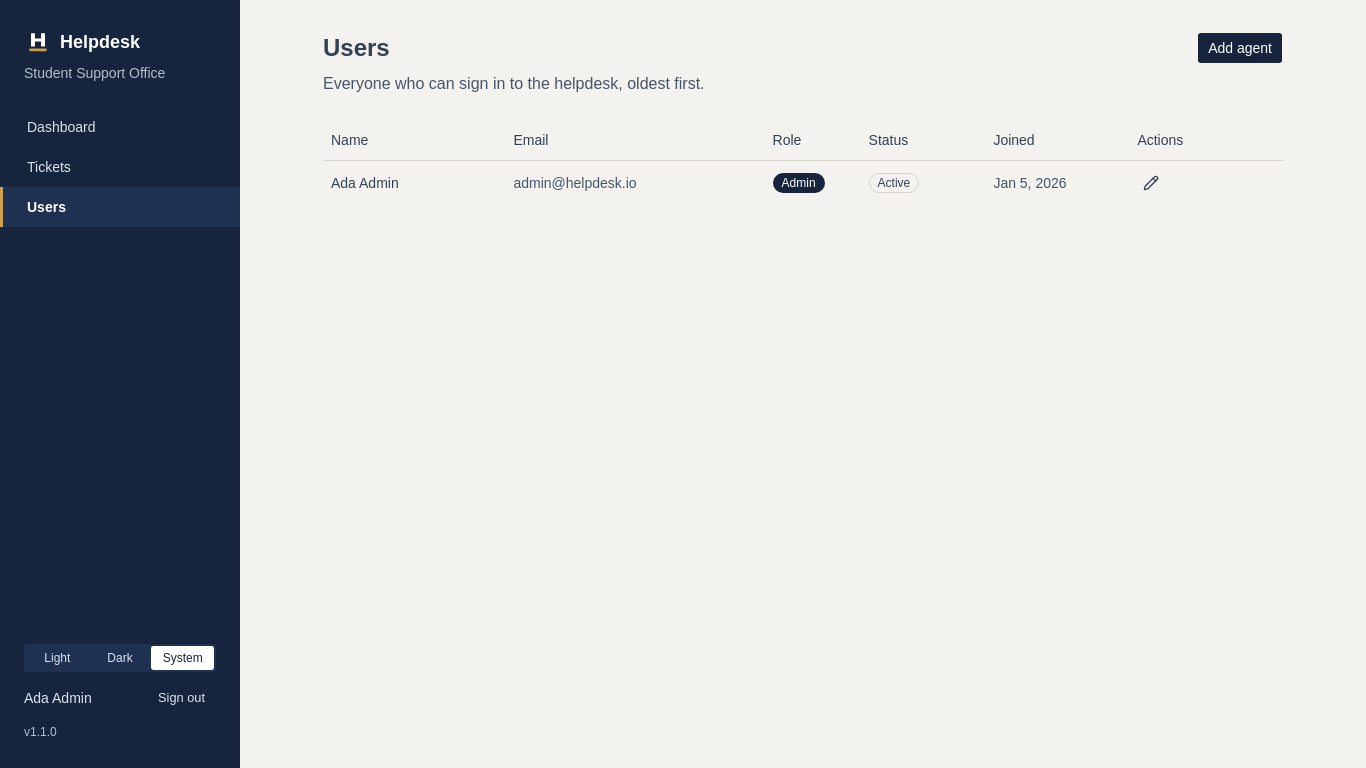
Test: a short password is refused before any request is sent
This screenshot has width=1366, height=768.
Click the button "Add agent" at (1240, 48), box [1197, 32, 1283, 64]
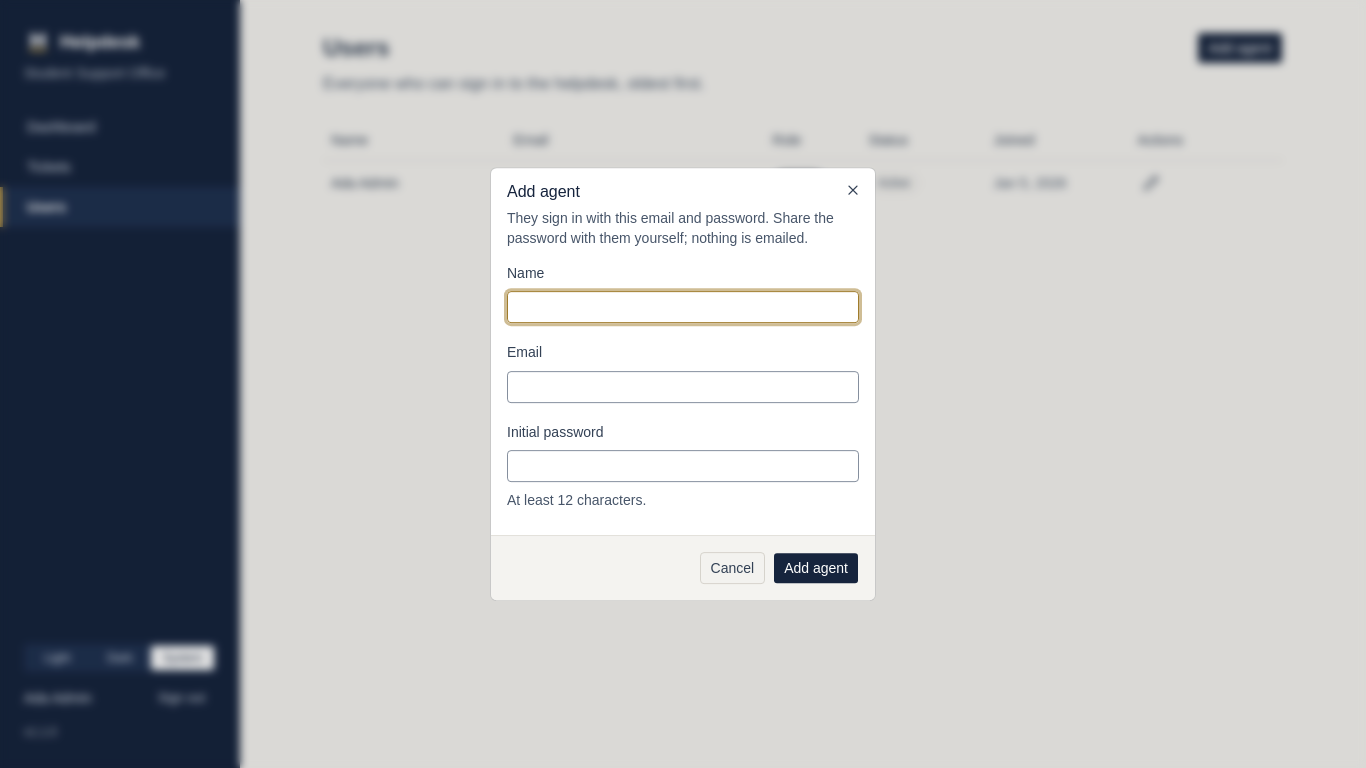
Type "Nia New" into the field labelled "Name" at (683, 307), box [507, 291, 859, 323]
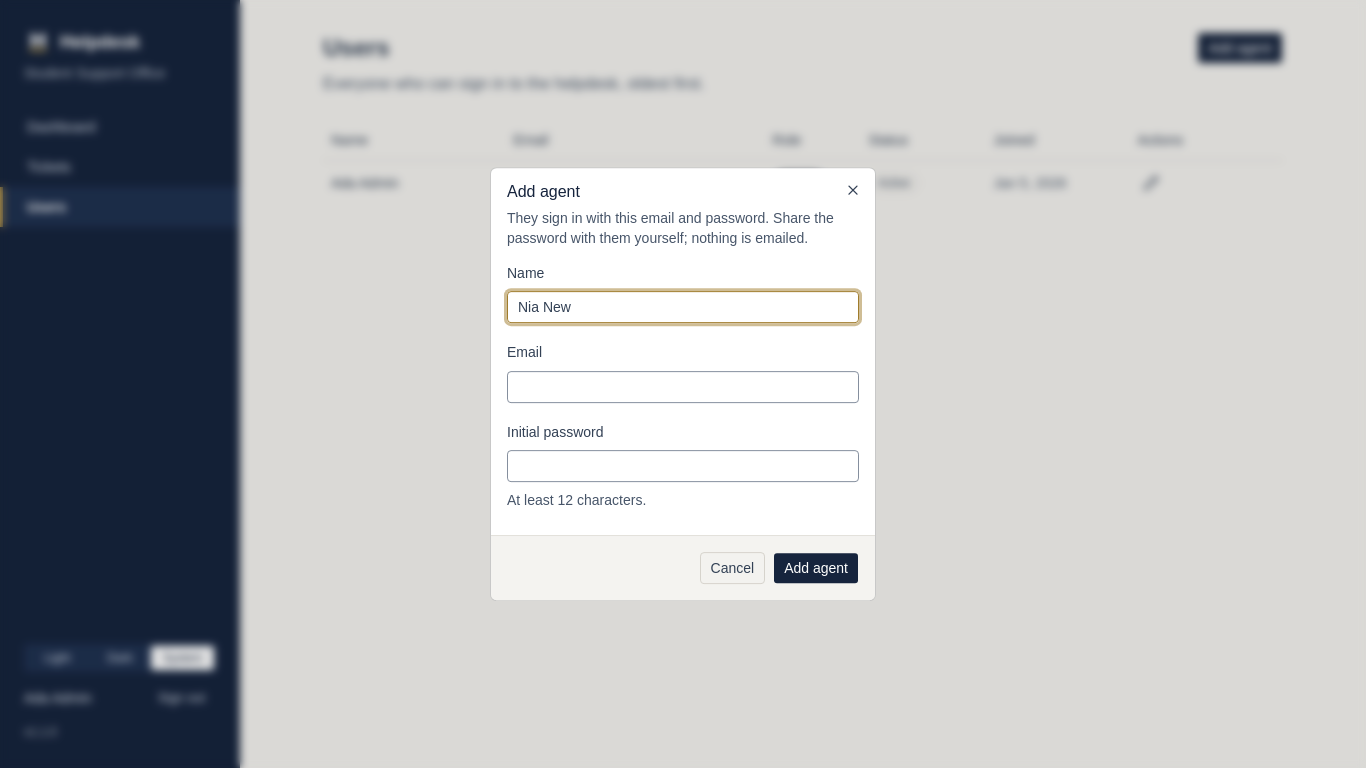
Type "nia@helpdesk.io" into the field labelled "Email" at (683, 387), box [507, 371, 859, 403]
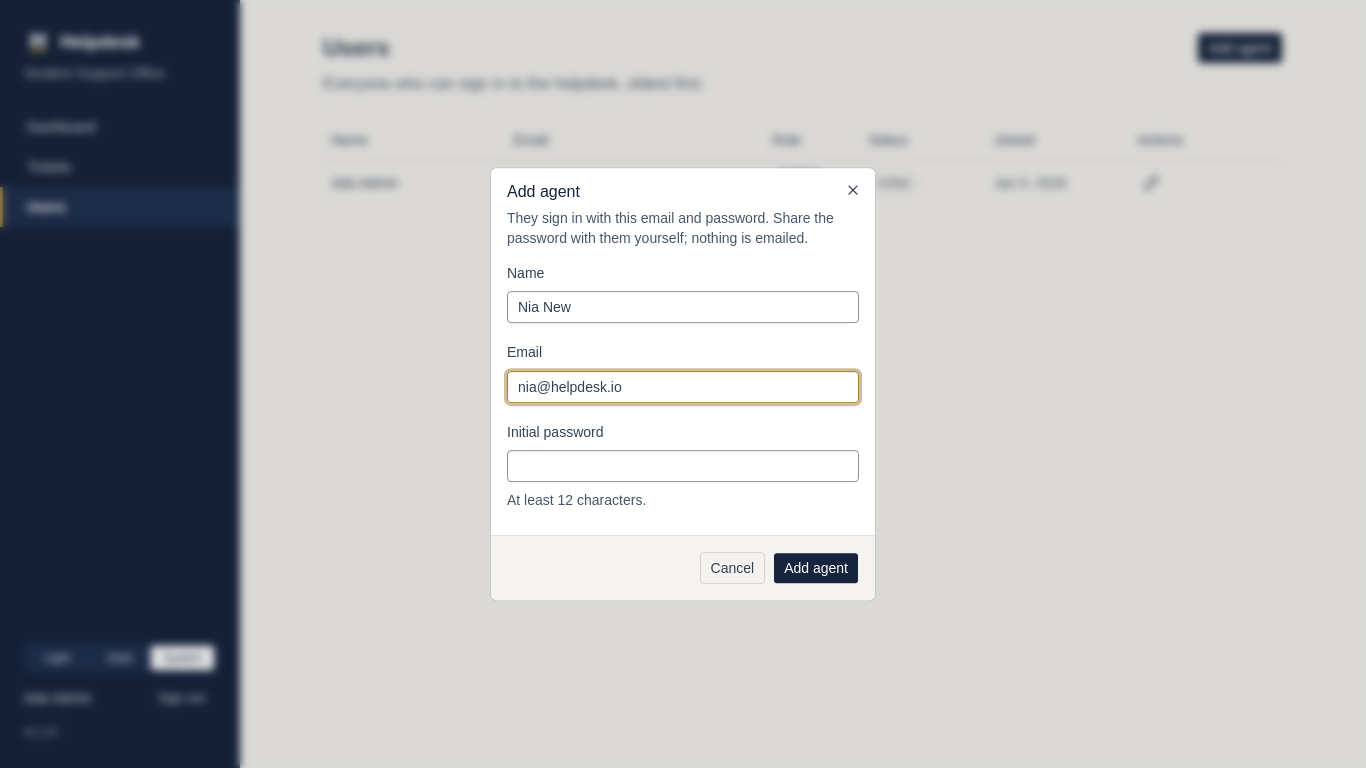
Type "short" into the password field labelled "Initial password" at (683, 466), box [507, 450, 859, 482]
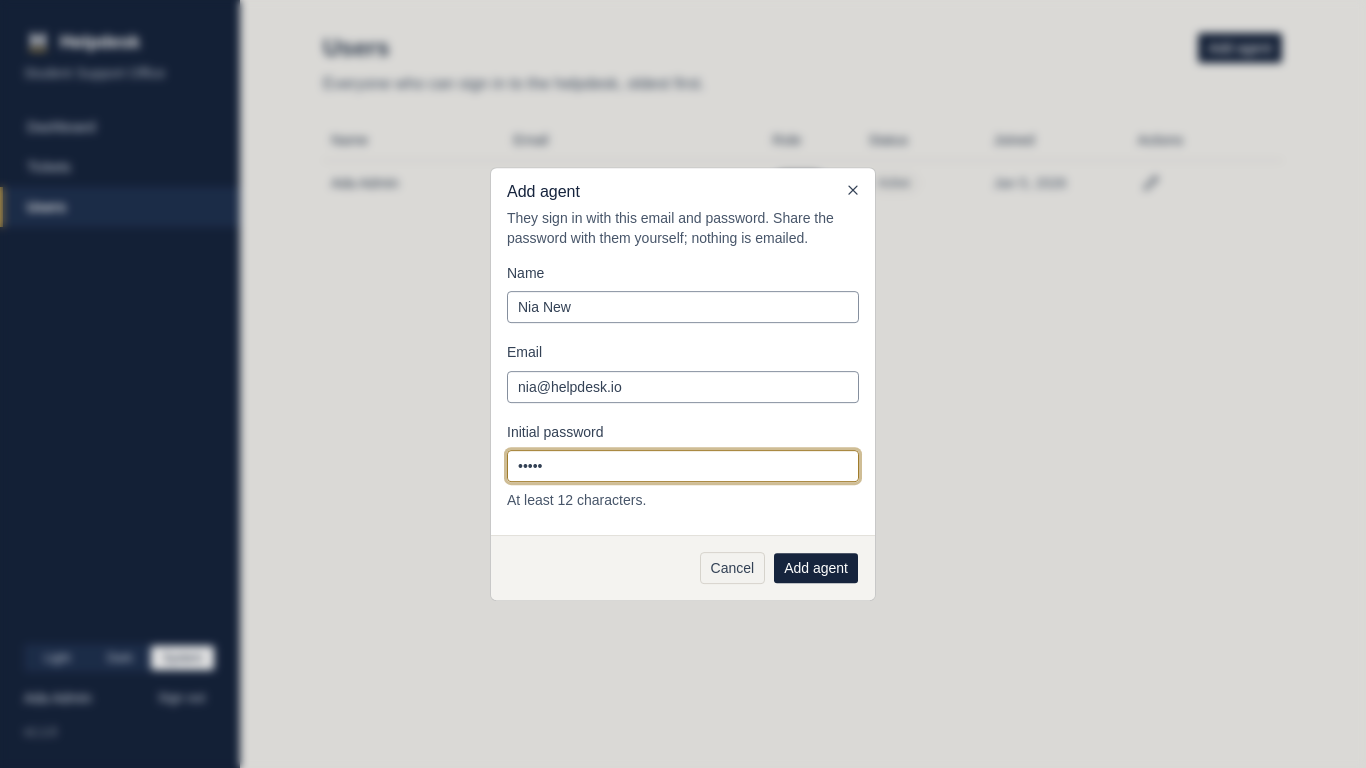
Click the button "Add agent" at (816, 568), box [773, 552, 859, 584]
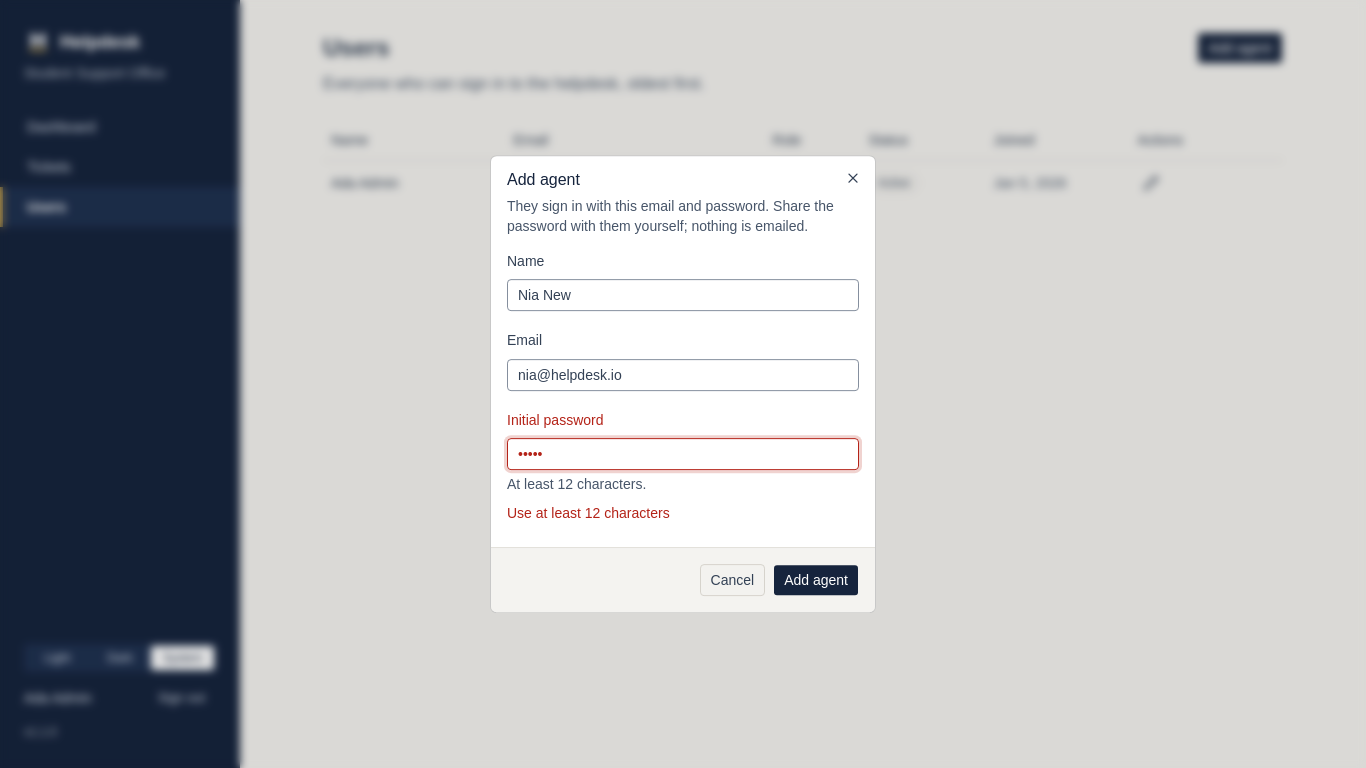
Result: the text "Use at least 12 characters" is shown at [507, 505, 670, 521]
